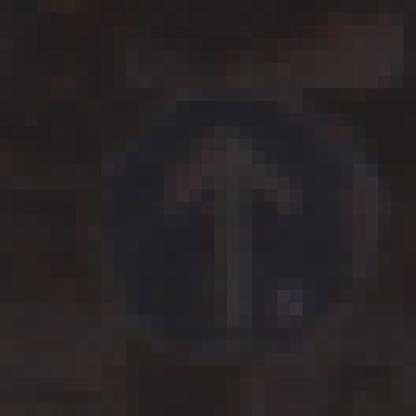AheadOnly: (77, 77, 341, 354)
